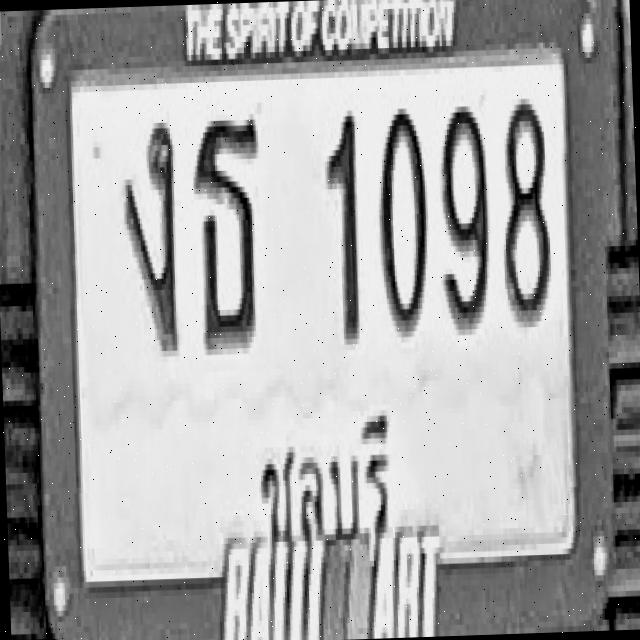0: (376, 102, 430, 337)
1: (322, 108, 362, 342)
16NgorNgu: (120, 116, 180, 352)
33ThorThong: (191, 113, 265, 349)
8: (498, 96, 552, 324)
9: (437, 100, 491, 330)
Chonburi: (246, 404, 404, 550)
